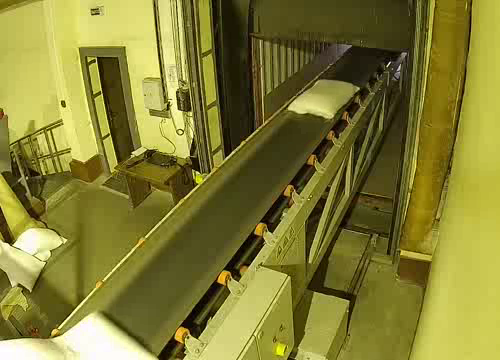bag: (0, 306, 161, 360), (285, 77, 362, 120)
